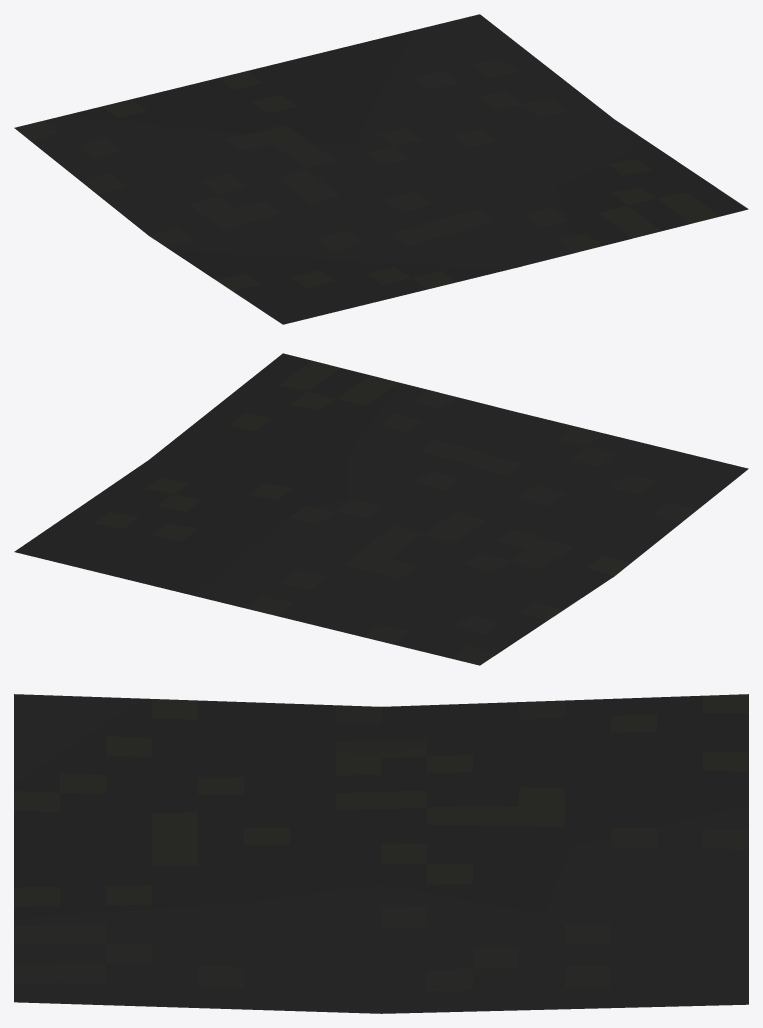
The model's file is OZ_99_sn_sdwbox05D.glb.
3 renders of one model, top to bottom at view 1: azimuth 30°, elevation 25°; view 2: azimuth 150°, elevation 25°; view 3: azimuth 270°, elevation 25°, orthographic. The views are drawn at different scales.
Parts seen in each view (by area): view 1: OM_99_sn_sdwbox05D; view 2: OM_99_sn_sdwbox05D; view 3: OM_99_sn_sdwbox05D.
Boxes of the visible parts, x1=… form: OM_99_sn_sdwbox05D: x1=14, y1=14, x2=748, y2=324; OM_99_sn_sdwbox05D: x1=14, y1=353, x2=748, y2=665; OM_99_sn_sdwbox05D: x1=14, y1=694, x2=748, y2=1013.
Bounding box in the file's own units: 1.49 × 0.0422 × 1.49.
Materials: 1 (1 with a texture image).
